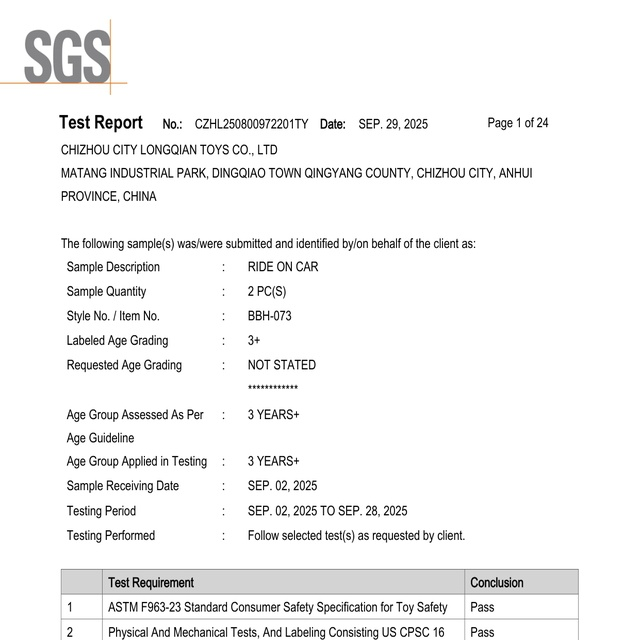sgs: (23, 28, 111, 83)
